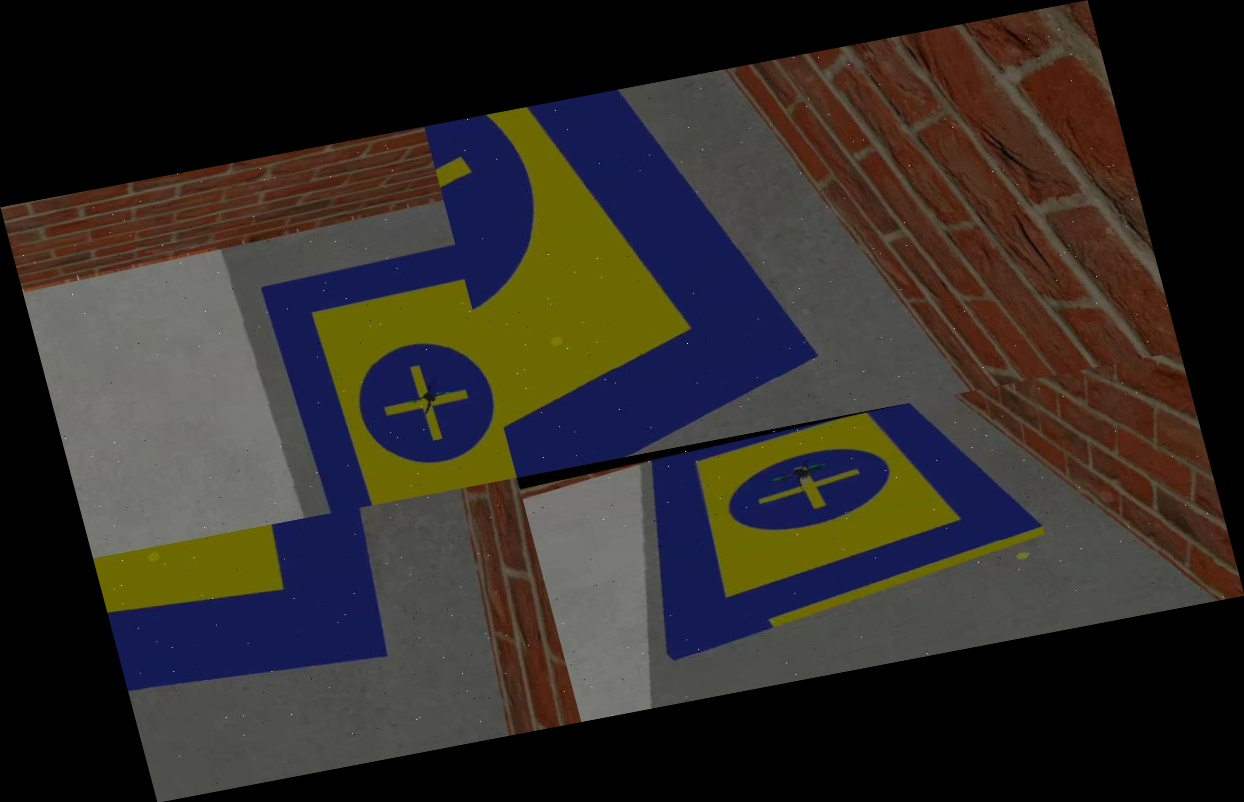large_base: (424, 65, 838, 477), (609, 383, 1066, 663), (93, 498, 449, 721), (257, 239, 517, 515)
